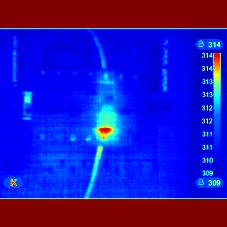Critical: (82, 114, 126, 146)
